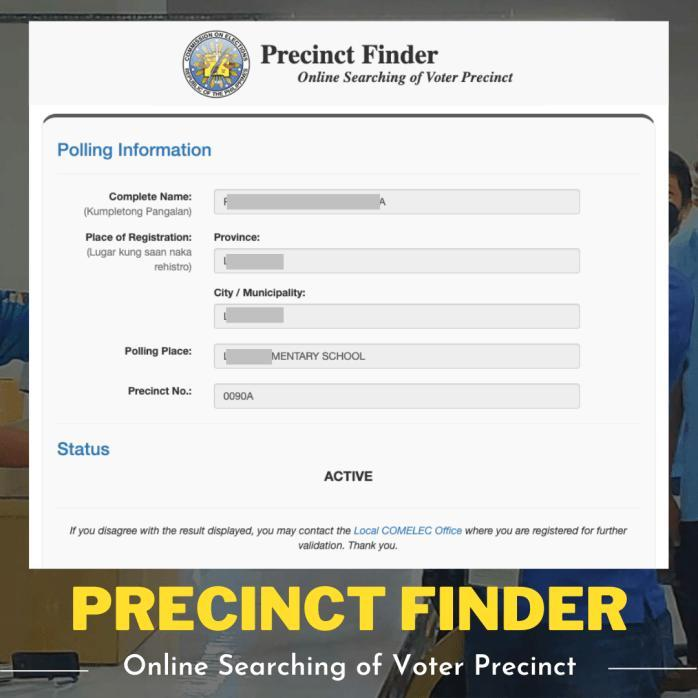input: (215, 344, 582, 371), (215, 190, 581, 216), (215, 384, 581, 410), (216, 249, 581, 274), (216, 306, 581, 329)
label: (83, 230, 195, 247), (106, 190, 195, 207), (124, 344, 197, 363), (212, 287, 311, 300), (124, 384, 195, 398), (214, 232, 265, 243)
